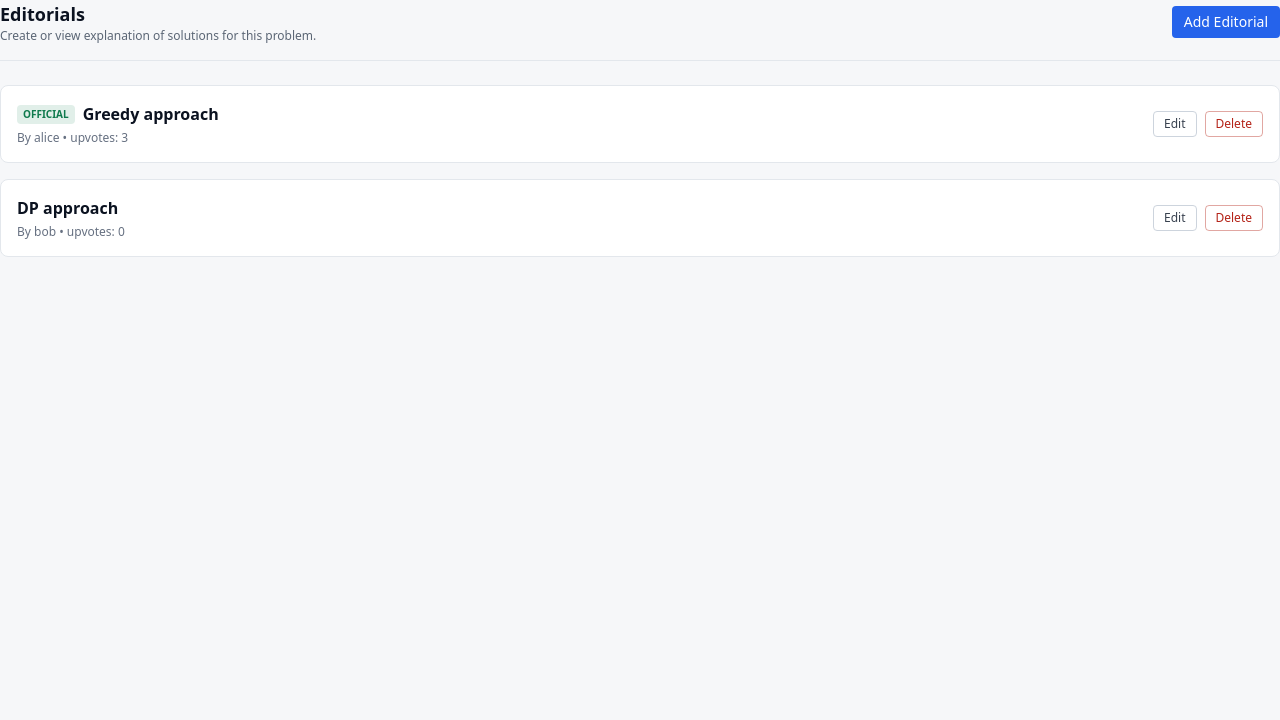
Test: deleting asks for confirmation and removes the row
Expected: the heading "Greedy approach" is shown, [83,102,219,126]
Click the button "Delete" in the row of "Greedy approach": (1234, 124) [1204,111,1263,137]
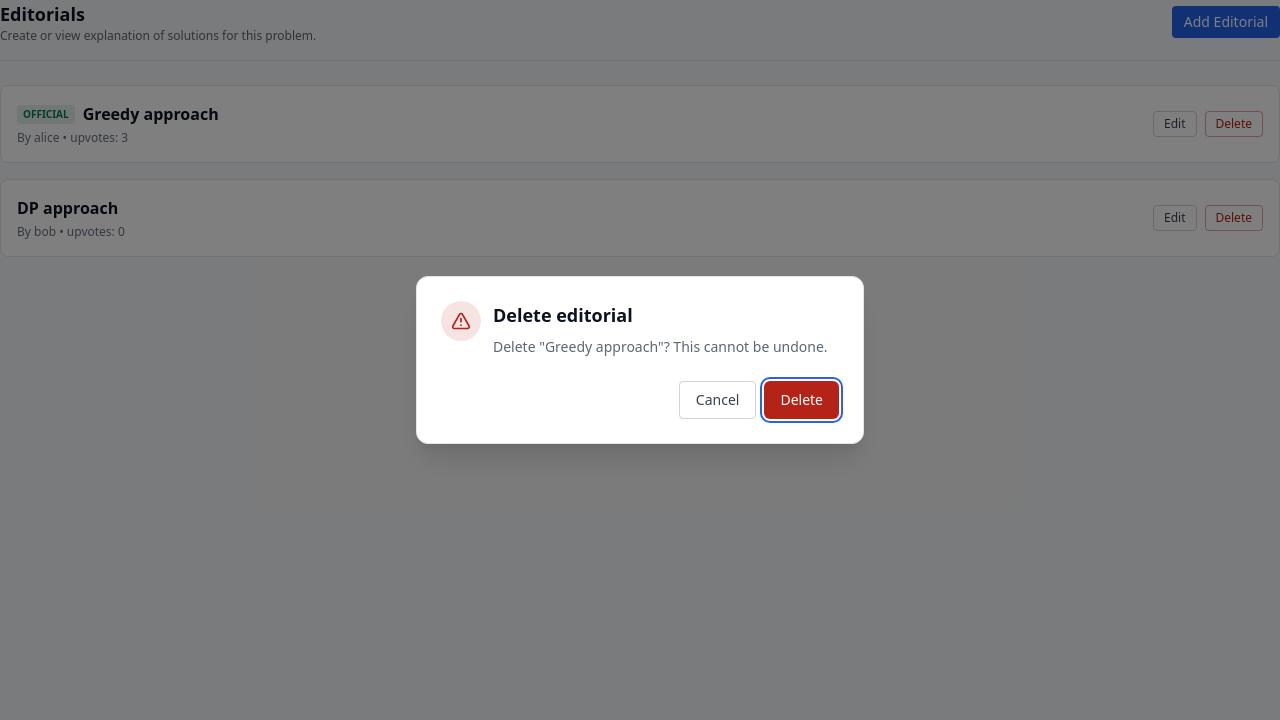
Expected: the text "Delete \"Greedy approach\"? This cannot be undone." is shown, [493,337,828,357]
Click the button "Delete": (802, 400) [764,381,839,419]
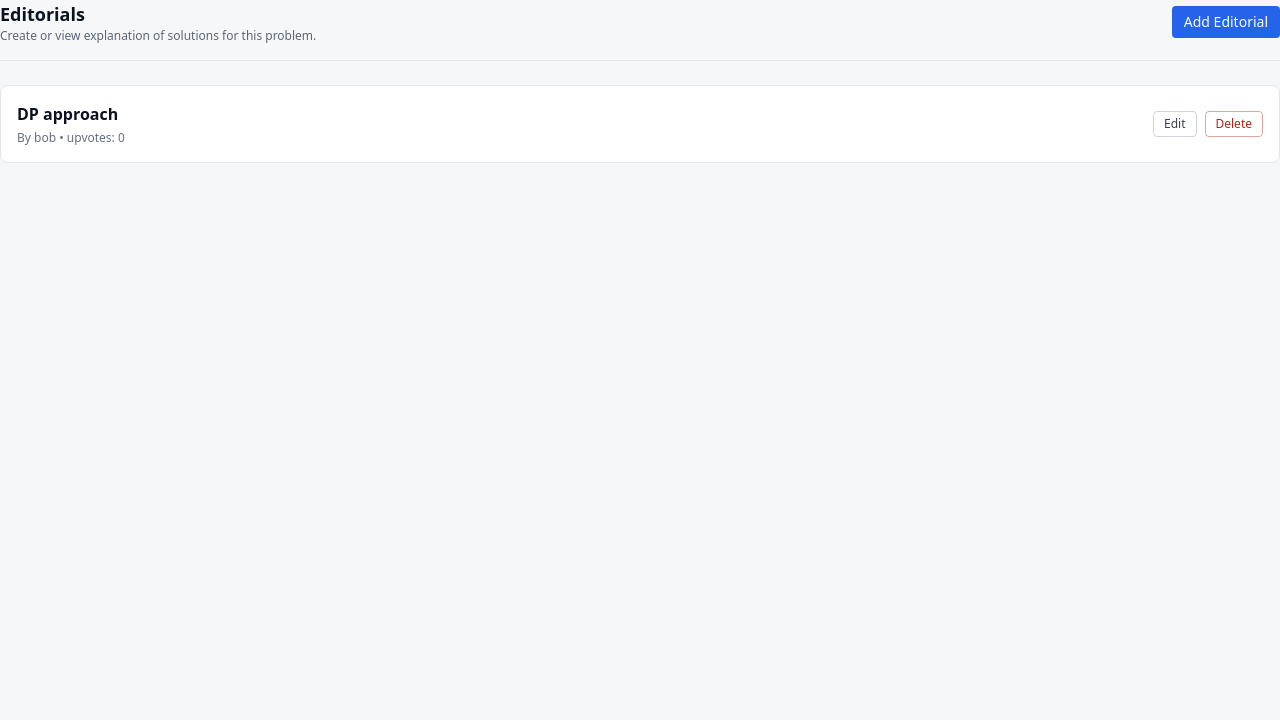
Expected: the heading "DP approach" is shown, [17,102,118,126]
Expected: the heading "Greedy approach" is gone
